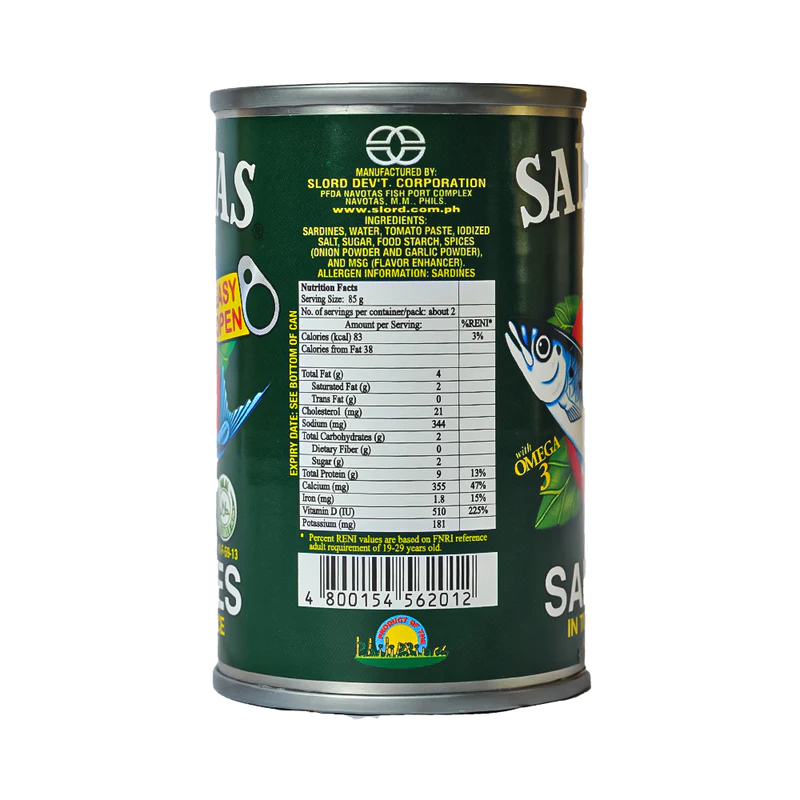non-toxic_waste: (207, 87, 597, 701)
